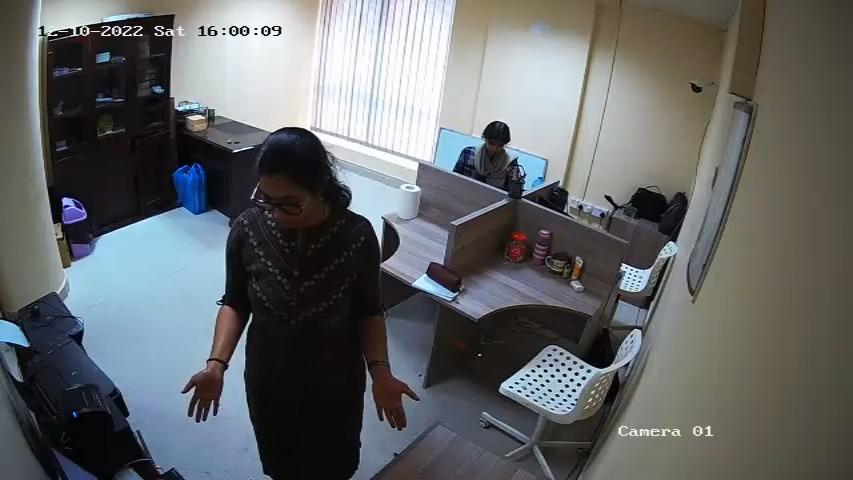no_gloves: (370, 374, 418, 432), (181, 363, 223, 422)
